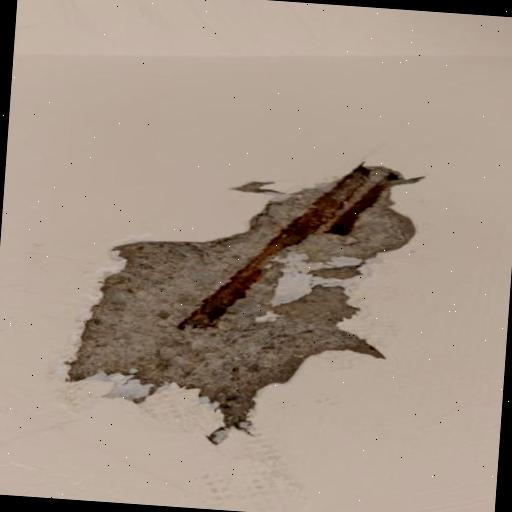spalling: (59, 161, 429, 453)
